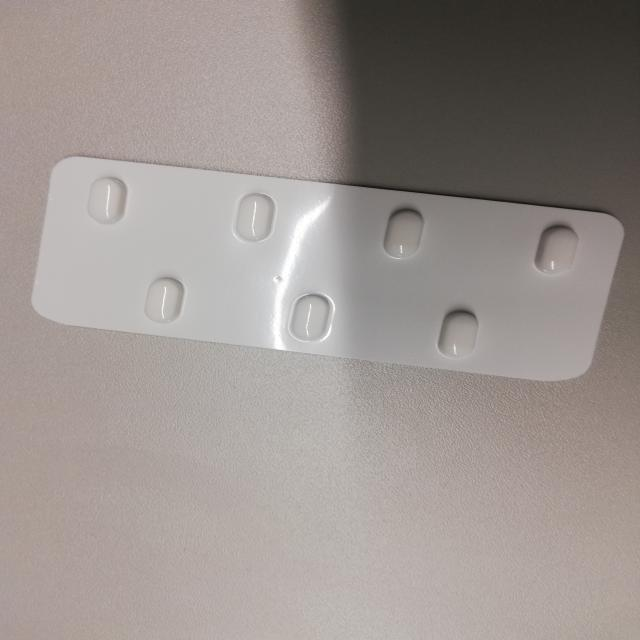Pill: (76, 161, 143, 235), (426, 298, 494, 364), (530, 212, 592, 284), (374, 199, 437, 268), (133, 271, 194, 329), (230, 186, 285, 246), (287, 286, 337, 352)
